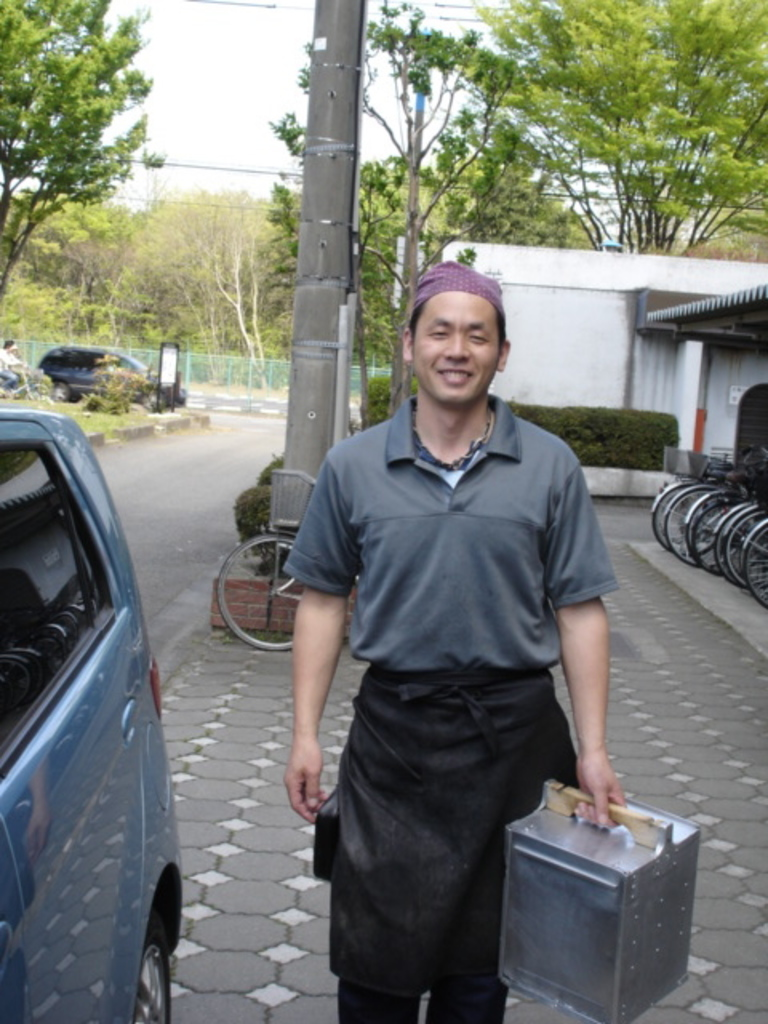Car: (0, 406, 192, 1022), (33, 340, 185, 398)
